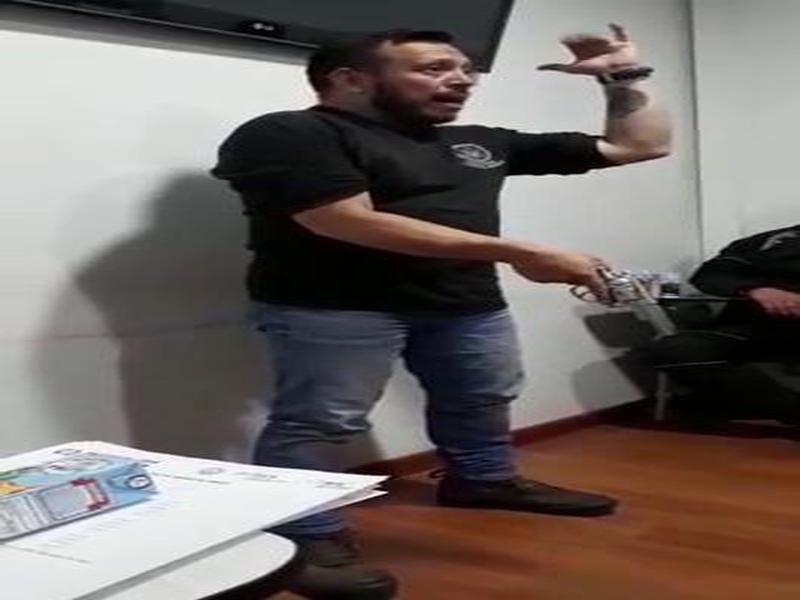Revolver: (539, 247, 686, 364)
